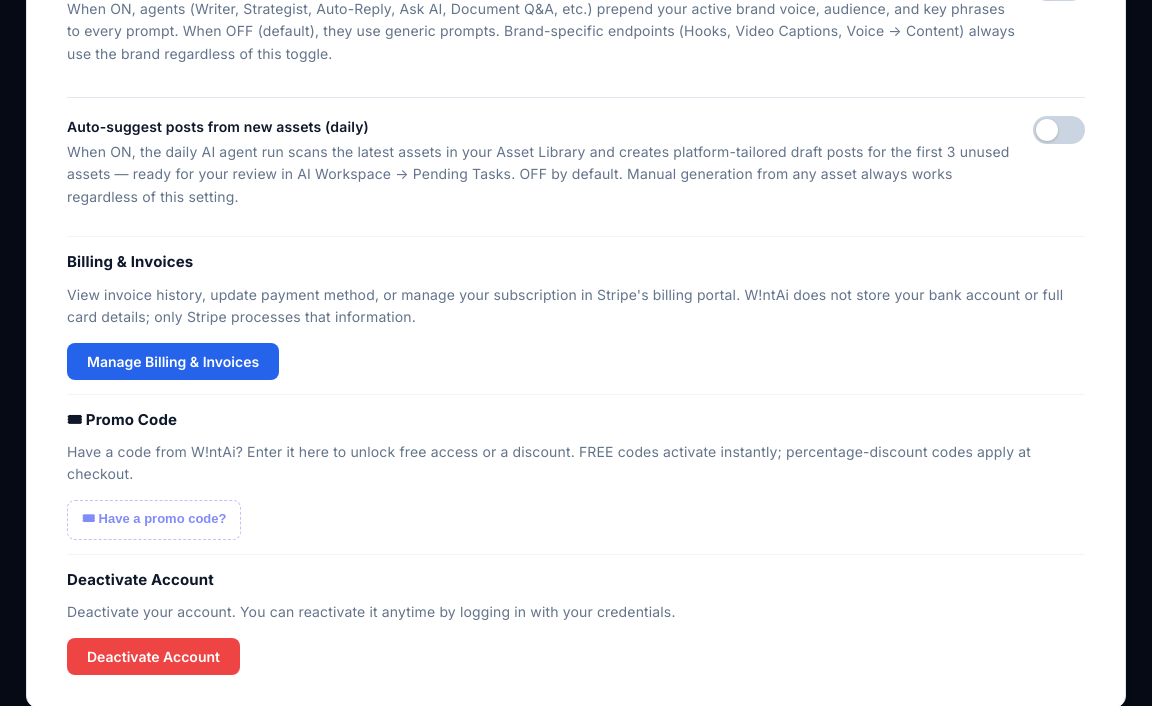
Test: AccountSettings › shows error banner when billing portal fails
(page scrolled)
Click the button "Manage Billing & Invoices". click: point(173, 361)
box: [67, 342, 279, 380]
(page scrolled)
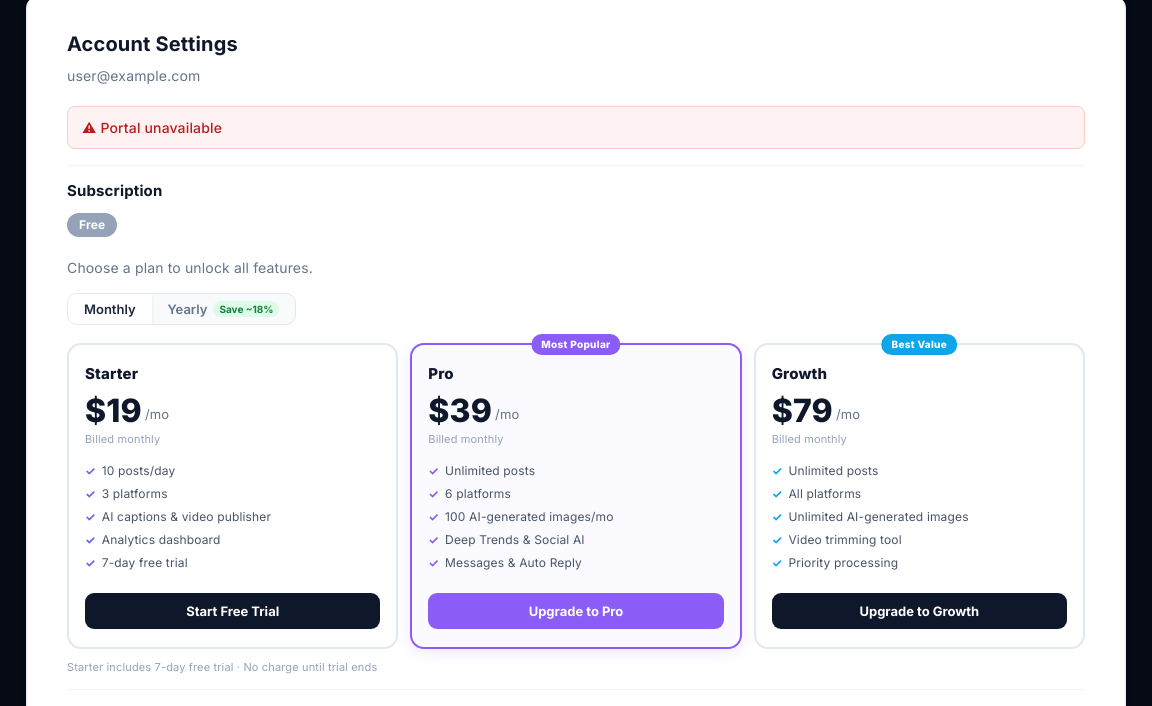
Result: the text "⚠ Portal unavailable" is shown at [67, 106, 1085, 149]
